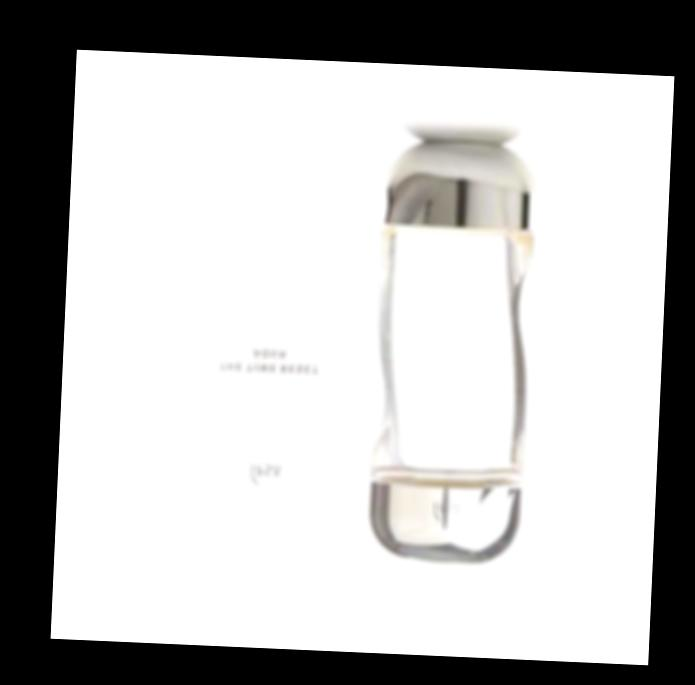cosmetic: (368, 134, 544, 565)
